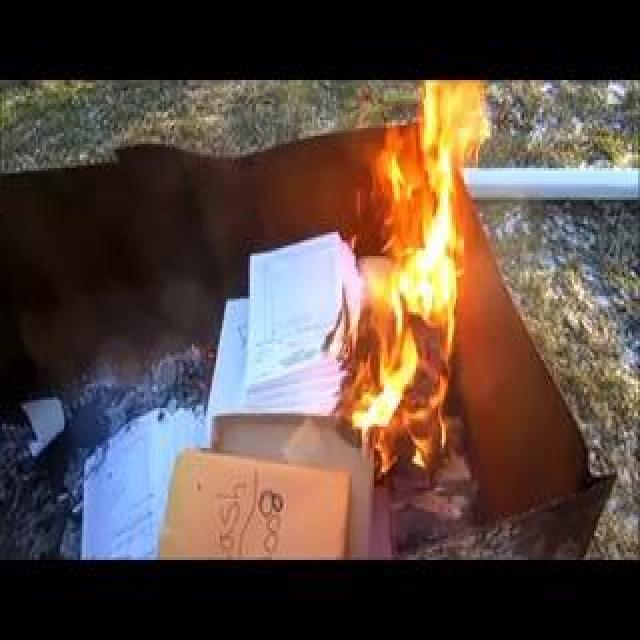Fire: (144, 270, 391, 386)
